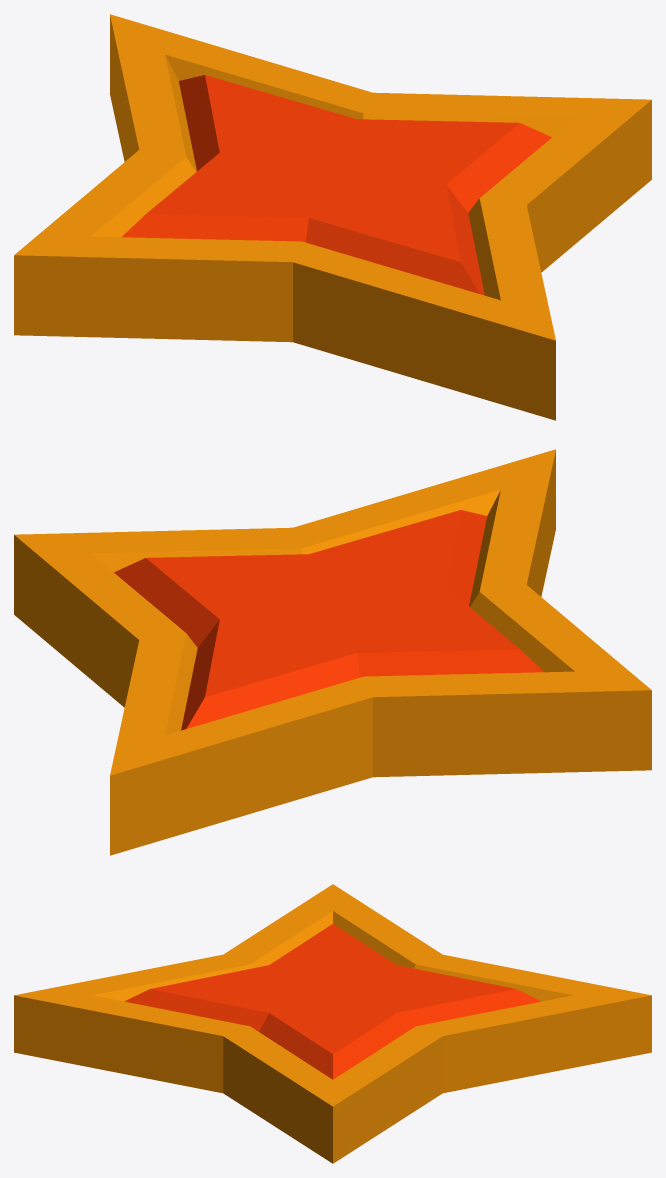
The model's file is star2.fbx.
3 renders of one model, top to bottom at view 1: azimuth 30°, elevation 25°; view 2: azimuth 150°, elevation 25°; view 3: azimuth 270°, elevation 25°, orthographic. The views are drawn at different scales.
Parts seen in each view (by area): view 1: Plane; view 2: Plane; view 3: Plane.
Part boxes in pixels (bbox=[...]): Plane: bbox=[14, 14, 651, 420]; Plane: bbox=[14, 449, 651, 855]; Plane: bbox=[14, 884, 651, 1163].
Bounding box in the file's own units: 283 × 37.68 × 343.
